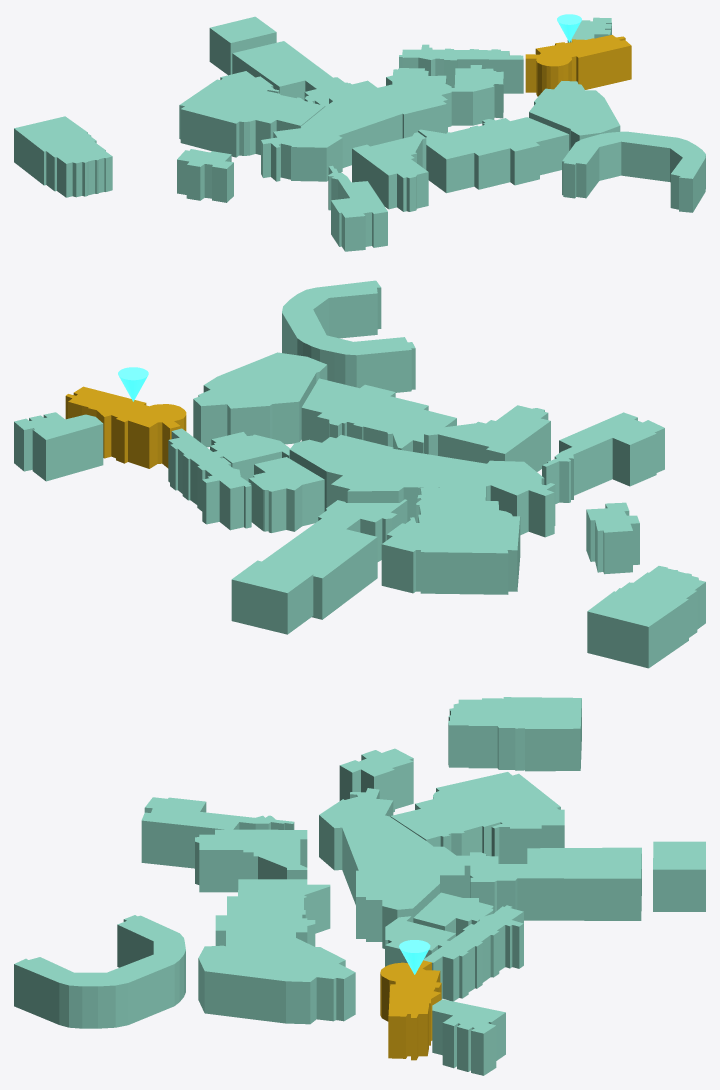
File: sheridan2.gltf
3 views of the same model, one above another, from view 1: azimuth 30°, elevation 25°; view 2: azimuth 150°, elevation 25°; view 3: azimuth 270°, elevation 25° (orthographic). The views are drawn at different scales.
Parts seen in each view (by area): view 1: b-wing, c-wing, animation-centre, residence, athletics-centre, levy-centre, e-wing, aa-wing, g-wing, s-wing, h-wing, student-centre (+5 smaller); view 2: b-wing, animation-centre, residence, athletics-centre, s-wing, aa-wing, g-wing, c-wing, levy-centre, e-wing, h-wing, k-wing (+5 smaller); view 3: b-wing, residence, s-wing, aa-wing, animation-centre, athletics-centre, c-wing, e-wing, h-wing, g-wing, levy-centre, k-wing (+5 smaller).
Boxes of the visible parts, <box> form: b-wing: <box>261,80,451,181</box>; c-wing: <box>418,117,569,193</box>; animation-centre: <box>179,71,325,157</box>; residence: <box>562,131,705,212</box>; athletics-centre: <box>14,116,112,197</box>; levy-centre: <box>525,35,631,96</box>; e-wing: <box>352,132,428,211</box>; aa-wing: <box>232,41,348,106</box>; g-wing: <box>328,165,387,251</box>; s-wing: <box>529,81,620,150</box>; h-wing: <box>399,44,523,93</box>; student-centre: <box>451,65,503,125</box>; b-wing: <box>289,435,555,537</box>; animation-centre: <box>381,486,520,594</box>; residence: <box>282,280,415,392</box>; athletics-centre: <box>587,566,705,668</box>; s-wing: <box>193,352,327,447</box>; aa-wing: <box>262,499,407,619</box>; g-wing: <box>542,412,664,503</box>; c-wing: <box>301,378,456,453</box>; levy-centre: <box>65,386,186,468</box>; e-wing: <box>424,405,550,471</box>; h-wing: <box>168,428,251,530</box>; k-wing: <box>14,412,103,481</box>; b-wing: <box>319,788,470,948</box>; residence: <box>14,915,185,1028</box>; s-wing: <box>198,938,355,1024</box>; aa-wing: <box>457,847,641,920</box>; animation-centre: <box>390,772,564,863</box>; athletics-centre: <box>448,697,581,771</box>; c-wing: <box>215,879,330,946</box>; e-wing: <box>195,829,307,892</box>; h-wing: <box>423,905,523,1001</box>; g-wing: <box>141,797,294,868</box>; levy-centre: <box>380,960,441,1060</box>; k-wing: <box>432,999,505,1075</box>.
Bounding box in the file's own units: 173 × 22.06 × 148.
